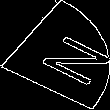N_NW: (10, 24, 100, 86)
